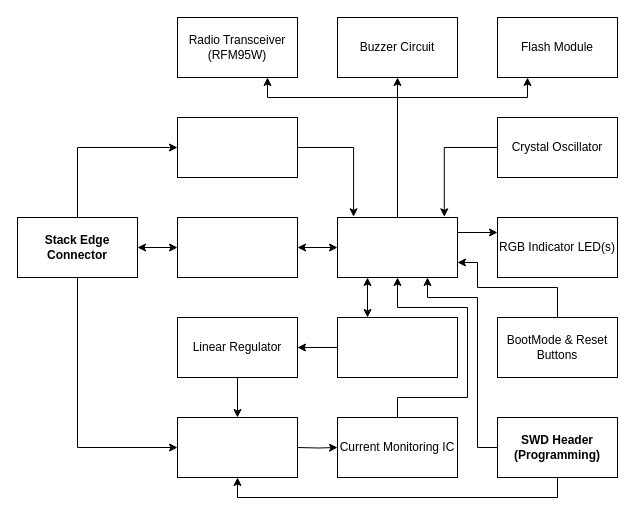
This 635x523 diagram has some shape labels left out. The shapes that lost their labels are listed below. From the top down, each one's centre as x and y in pixels, then its label:
At [237,147]: "Voltage Divider (Primary Battery Measurement)".
At [237,247]: "CAN Interface (Isolated)".
At [397,247]: "Processor (STM32F103CBT6)".
At [397,347]: "USB Connector".
At [237,447]: "3x Ideal Diodes (Power Mux)".
